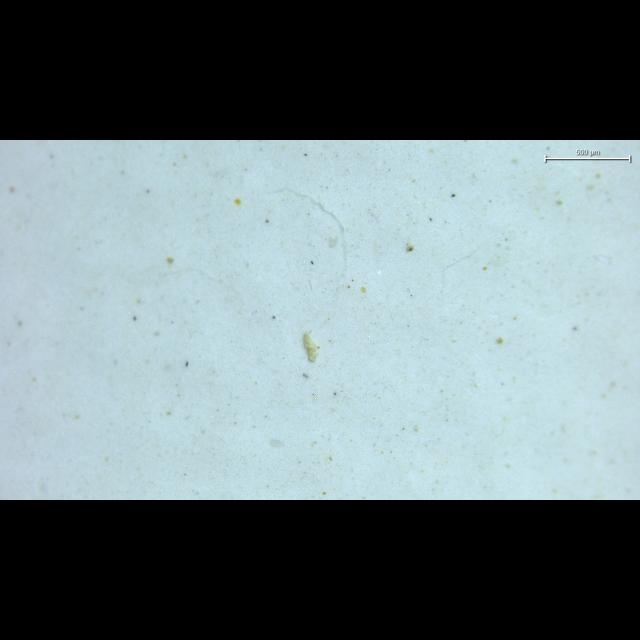Fibre: (274, 188, 348, 269)
Fragment: (303, 331, 318, 362)
